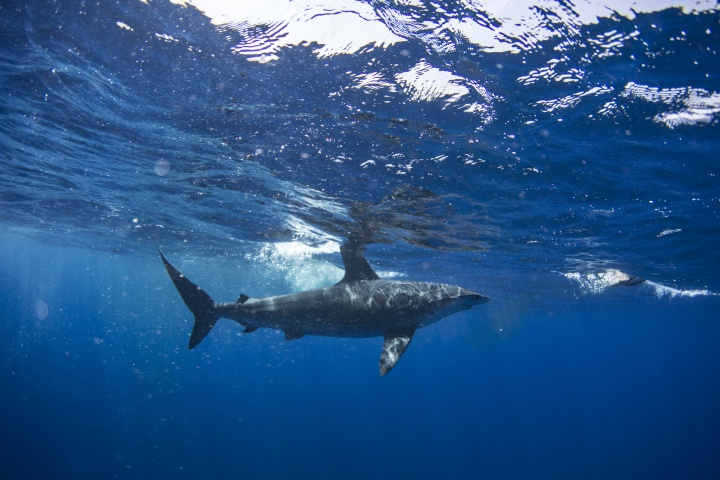Hammer: (124, 224, 554, 399)
